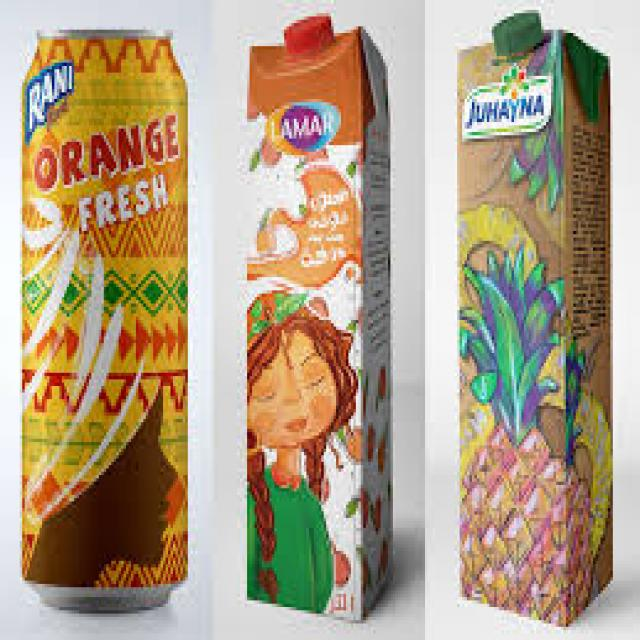non_white_jug: (10, 18, 200, 619), (441, 9, 619, 628), (235, 9, 395, 628)
